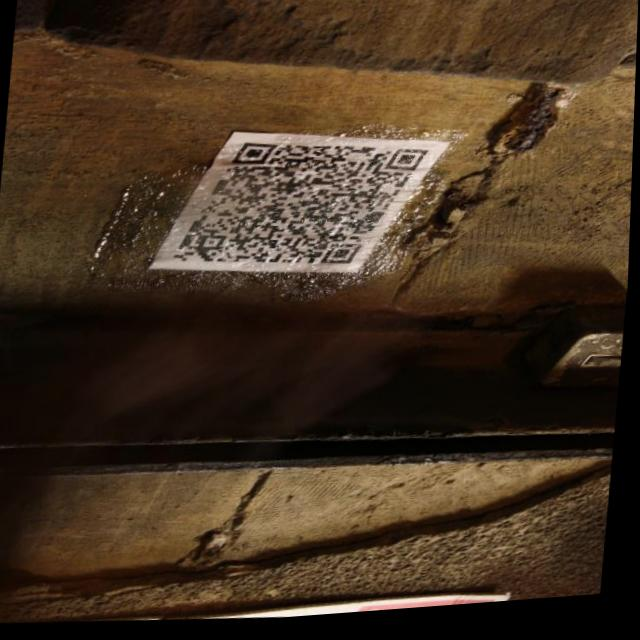qrcode: (174, 134, 431, 284)
